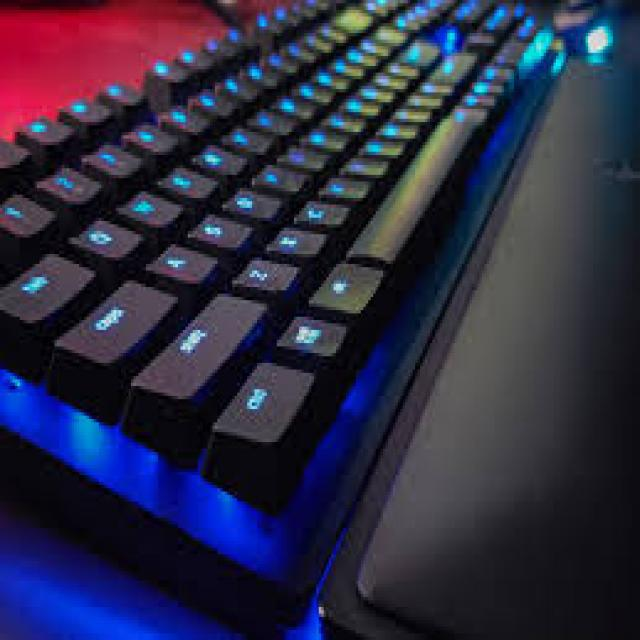others: (2, 3, 640, 637)
